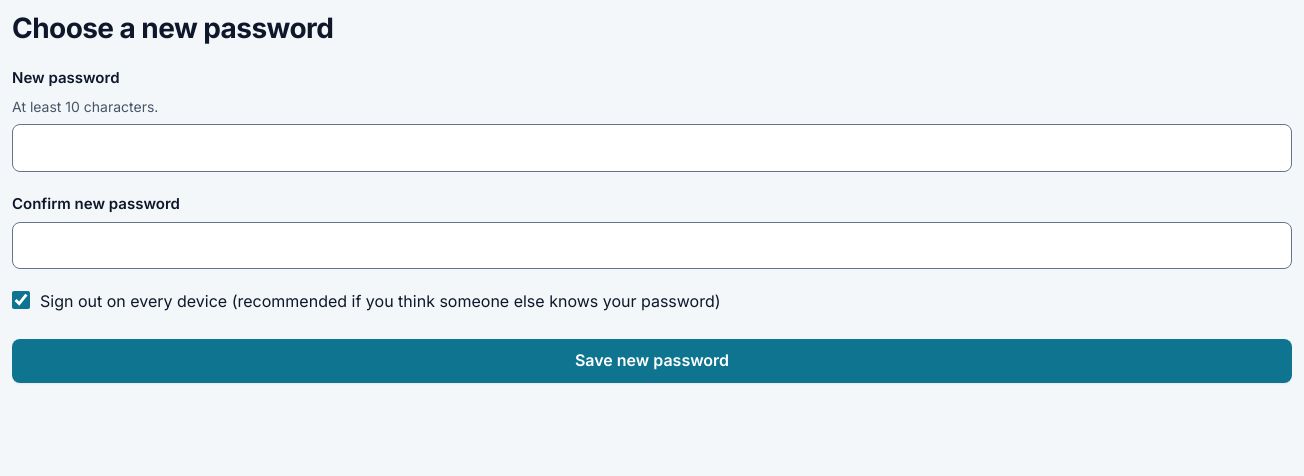
Test case: ResetPasswordForm › explains an expired link and links to a new one
The width and height of the screenshot is (1304, 476).
In the password field labelled "New password": (652, 148) [12,124,1292,172], type "a-brand-new-password"
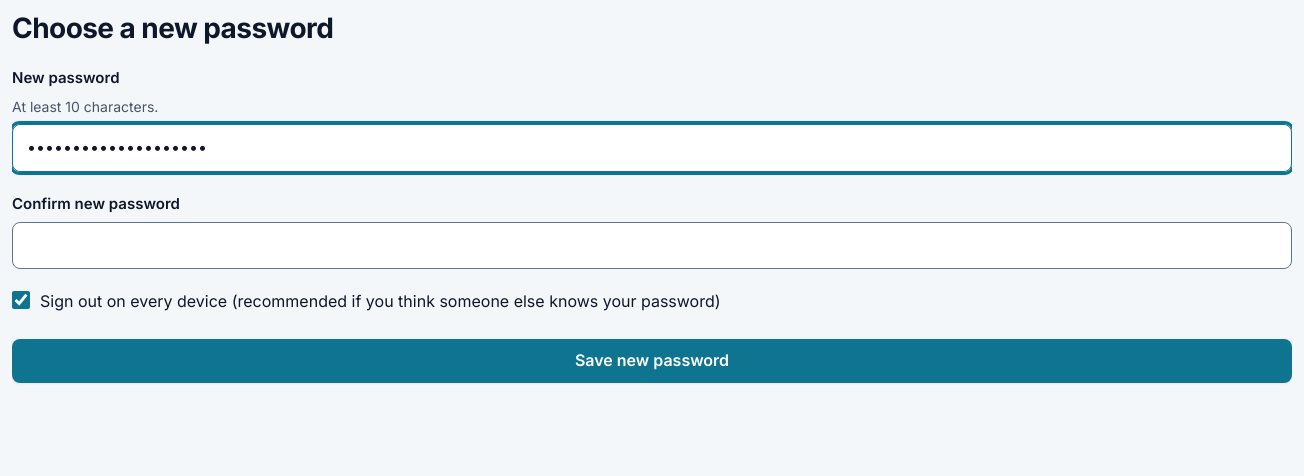
In the password field labelled "Confirm new password": (652, 245) [12,222,1292,269], type "a-brand-new-password"
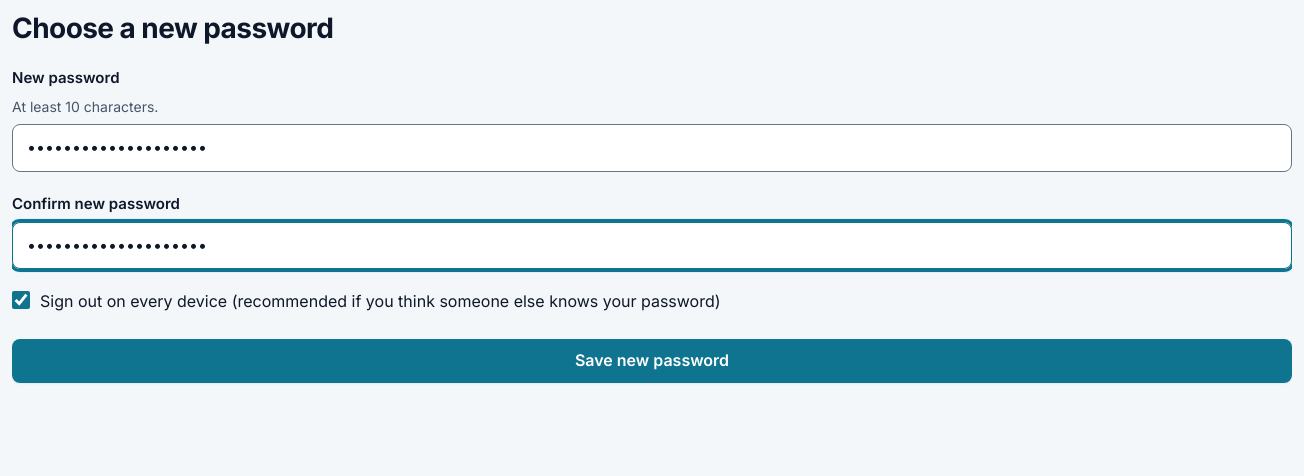
Click the button "Save new password": (652, 361) [12,339,1292,383]
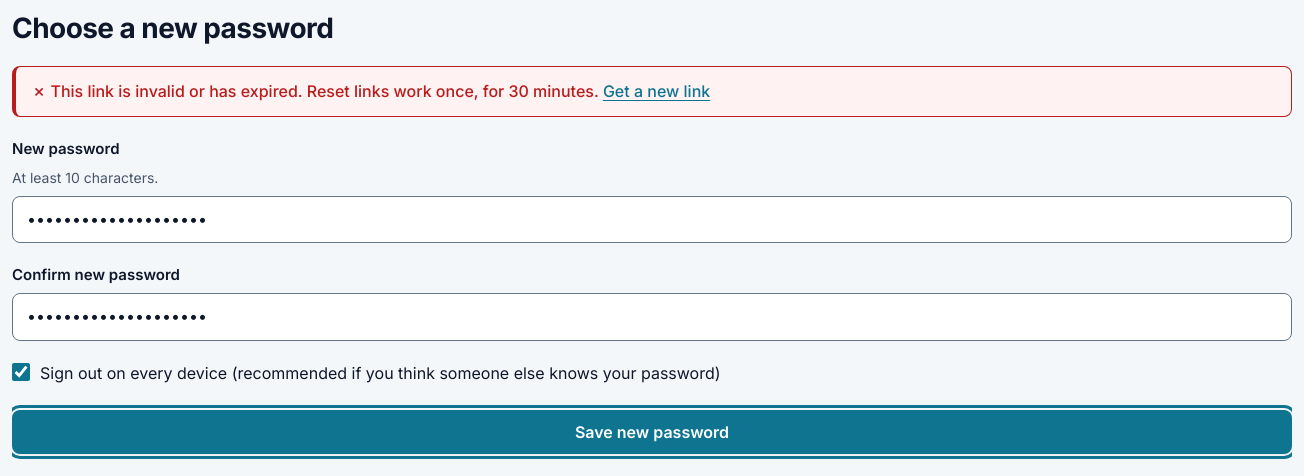
Check: the message shows "This link is invalid or has expired.", box [50,81,599,101]
